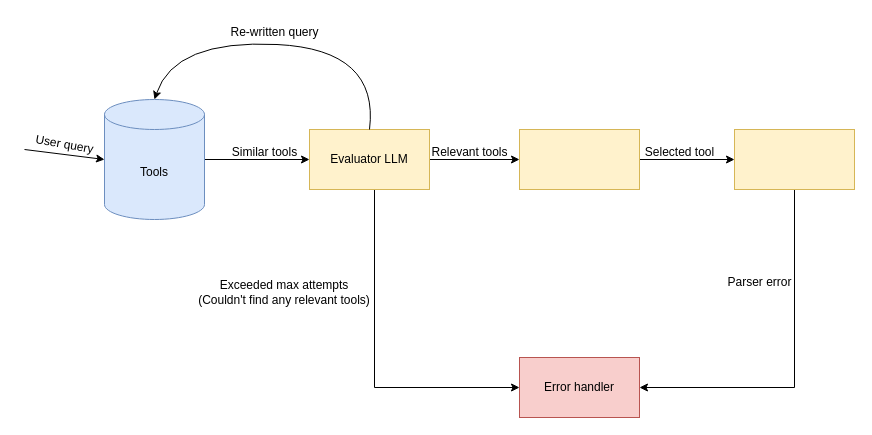
The diagram is 872 pixels wide and 435 high, and some of its shapes have lost their labels. Here are the shapes that lost their labels. From the top down, the centre of each, then its label:
[579,159]: LLM
[794,159]: Tool parse/call
